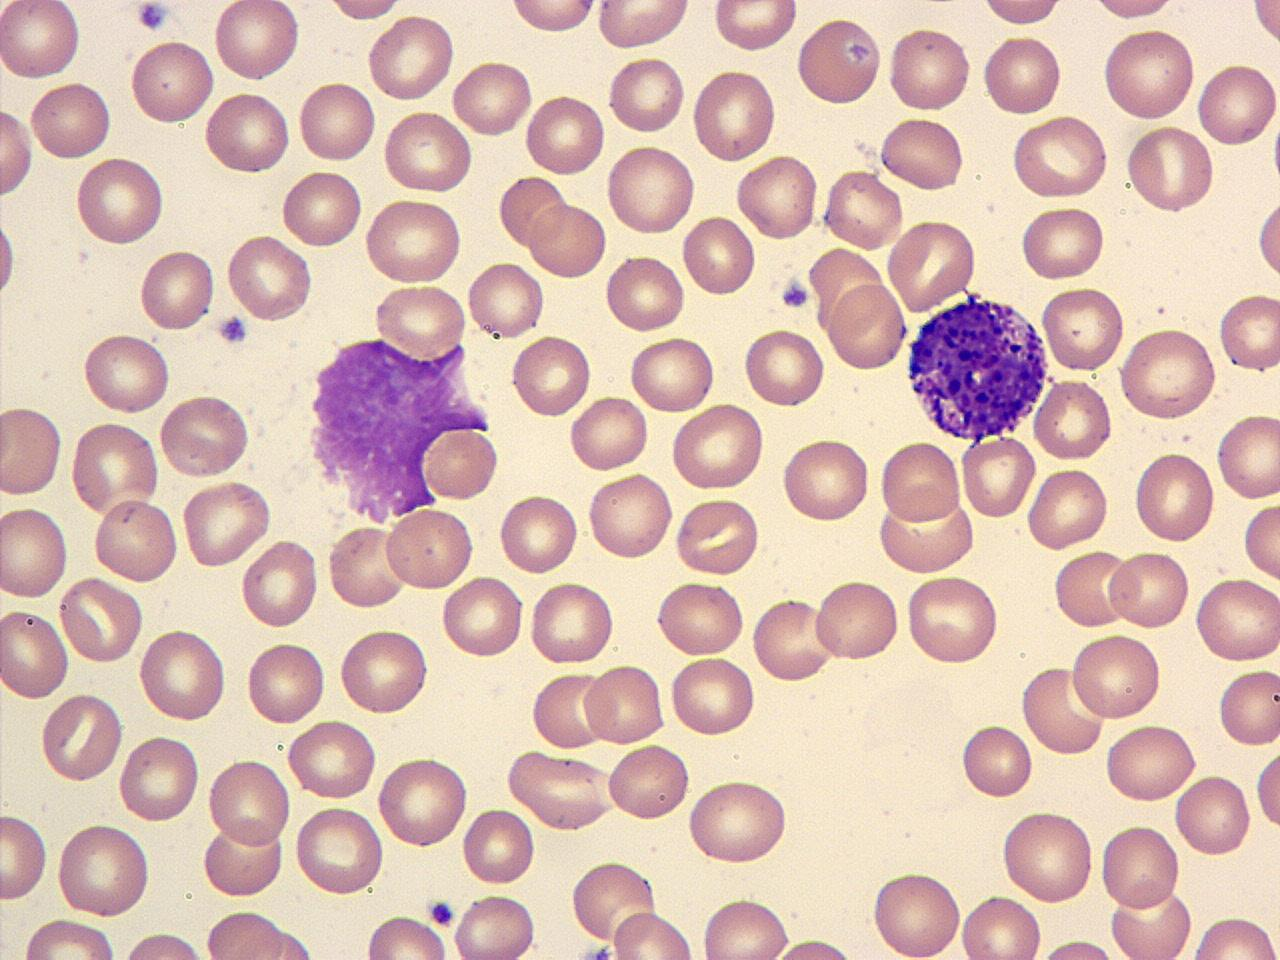Platelets: (134, 2, 171, 34), (217, 313, 249, 345), (780, 279, 810, 310), (428, 896, 456, 928), (584, 942, 611, 960)
RBC: (53, 820, 153, 920), (685, 775, 791, 868), (67, 418, 162, 520), (1118, 325, 1220, 421), (998, 808, 1097, 906), (362, 196, 466, 288), (504, 749, 620, 832), (1101, 25, 1197, 124), (374, 752, 469, 853), (884, 215, 978, 317), (904, 573, 1003, 669), (136, 625, 228, 726), (292, 802, 386, 899), (73, 152, 167, 248), (689, 66, 779, 166), (670, 400, 766, 494), (1069, 630, 1165, 724), (1009, 112, 1111, 200), (337, 626, 433, 718), (605, 141, 696, 238), (868, 868, 964, 960), (584, 468, 675, 564), (780, 434, 872, 528), (224, 230, 315, 324), (1124, 122, 1215, 216), (382, 504, 478, 594), (157, 391, 254, 480), (181, 478, 274, 570), (206, 754, 292, 852), (1102, 720, 1200, 806), (202, 87, 292, 179), (566, 856, 660, 946), (366, 10, 456, 104), (80, 329, 174, 417), (1132, 448, 1215, 548), (794, 15, 882, 110), (58, 572, 145, 668), (382, 106, 475, 195), (885, 23, 974, 116), (39, 690, 125, 786), (1020, 659, 1105, 756), (127, 37, 217, 128), (1039, 282, 1127, 374), (878, 436, 964, 529), (1098, 820, 1182, 915), (812, 576, 902, 665), (91, 496, 179, 586), (626, 332, 718, 418), (876, 496, 976, 576), (116, 731, 201, 825), (240, 534, 321, 632), (527, 580, 618, 667), (734, 153, 820, 244), (654, 576, 748, 659), (212, 0, 302, 86), (1194, 58, 1278, 151), (1192, 576, 1280, 664), (440, 572, 526, 662), (750, 594, 834, 686), (286, 718, 378, 802), (244, 636, 328, 728), (826, 279, 908, 373), (1032, 374, 1116, 465), (523, 89, 607, 179), (496, 489, 580, 579), (372, 282, 468, 360), (668, 654, 756, 739), (510, 330, 593, 419), (1018, 202, 1108, 284), (959, 431, 1039, 523), (820, 166, 906, 252), (1105, 548, 1191, 632), (580, 663, 666, 747), (742, 324, 826, 410), (28, 77, 113, 163), (980, 31, 1064, 118), (280, 165, 364, 253), (603, 250, 687, 336), (604, 742, 692, 824), (449, 56, 534, 140), (1025, 466, 1109, 552), (327, 524, 408, 612), (878, 113, 967, 194), (0, 501, 70, 604), (296, 78, 377, 165), (1106, 882, 1196, 960), (606, 52, 688, 137), (672, 496, 760, 576), (1173, 773, 1253, 860), (0, 606, 71, 704), (465, 258, 547, 341), (1, 0, 83, 84), (568, 392, 650, 475), (528, 197, 608, 281), (137, 247, 214, 334), (419, 424, 501, 504), (1053, 548, 1133, 630), (530, 668, 608, 752), (200, 822, 284, 899), (461, 804, 538, 888), (680, 214, 756, 298), (959, 719, 1035, 803), (450, 890, 538, 960), (0, 403, 63, 500), (697, 896, 793, 958), (497, 172, 570, 252), (1215, 410, 1279, 502), (959, 893, 1045, 960), (1215, 290, 1280, 375), (1215, 665, 1279, 750), (594, 0, 694, 52), (710, 0, 800, 55), (202, 906, 293, 960), (0, 808, 51, 904), (18, 916, 121, 959), (608, 908, 695, 958), (1189, 913, 1279, 959), (362, 913, 451, 959), (506, 0, 600, 37), (0, 103, 35, 202), (1240, 502, 1280, 579), (116, 929, 215, 960), (754, 936, 868, 960), (977, 0, 1066, 30), (1252, 744, 1280, 840), (1255, 188, 1279, 289), (1030, 936, 1130, 960), (1085, 0, 1185, 24), (0, 196, 17, 322), (321, 0, 409, 24), (1248, 1, 1280, 51)
WBC: (300, 326, 501, 522), (901, 290, 1054, 444)
